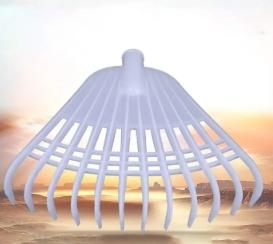RATEAU: (0, 48, 273, 244)
